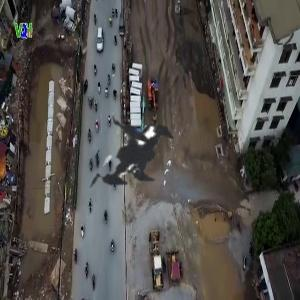drone: (4, 8, 281, 285)
